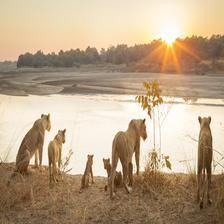Lion: (112, 115, 153, 191), (11, 112, 53, 175), (194, 111, 219, 204), (50, 129, 68, 182), (84, 152, 96, 194)
